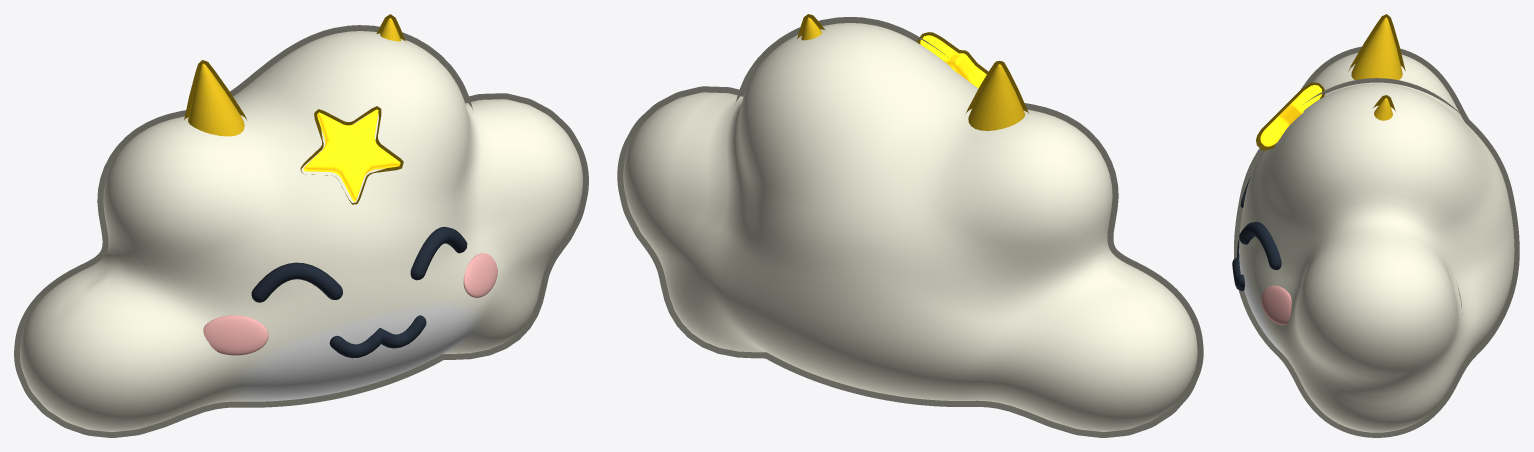
Rendered from star.glb.
3 renders of one model, left to right at view 1: azimuth 30°, elevation 25°; view 2: azimuth 150°, elevation 25°; view 3: azimuth 270°, elevation 25°, orthographic. The views are drawn at different scales.
Parts seen in each view (by area): view 1: body, star, horn, cheek, eye, mouth, eye.001, cheek.001; view 2: body, horn, star; view 3: body, horn, star, cheek.001, eye.001, horn.001, mouth.
Part boxes in pixels (left/top/right/bottom): body: left=14, top=25, right=588, bottom=437; star: left=300, top=106, right=403, bottom=204; horn: left=184, top=60, right=247, bottom=136; cheek: left=203, top=315, right=268, bottom=355; eye: left=251, top=262, right=342, bottom=302; mouth: left=329, top=315, right=426, bottom=358; eye.001: left=410, top=226, right=467, bottom=280; cheek.001: left=463, top=253, right=497, bottom=297; body: left=617, top=17, right=1203, bottom=437; horn: left=965, top=60, right=1028, bottom=130; star: left=917, top=32, right=988, bottom=88; body: left=1234, top=46, right=1519, bottom=437; horn: left=1348, top=14, right=1405, bottom=79; star: left=1256, top=82, right=1324, bottom=150; cheek.001: left=1261, top=285, right=1291, bottom=324; eye.001: left=1239, top=221, right=1281, bottom=270; horn.001: left=1372, top=95, right=1395, bottom=120; mouth: left=1232, top=240, right=1244, bottom=290.
Size of the model in its own units: 2.35 by 1.42 by 1.2.
